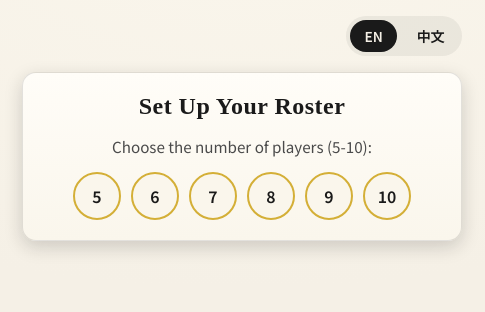
Scenario: HostSetupPage › moves to name entry after player count selection
Click the button "5".
click(97, 196)  # box [73,172,121,220]
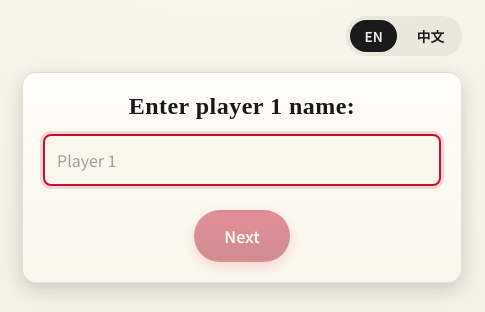
Check: the field with placeholder "Player 1" is shown, box [43,134,441,186]
